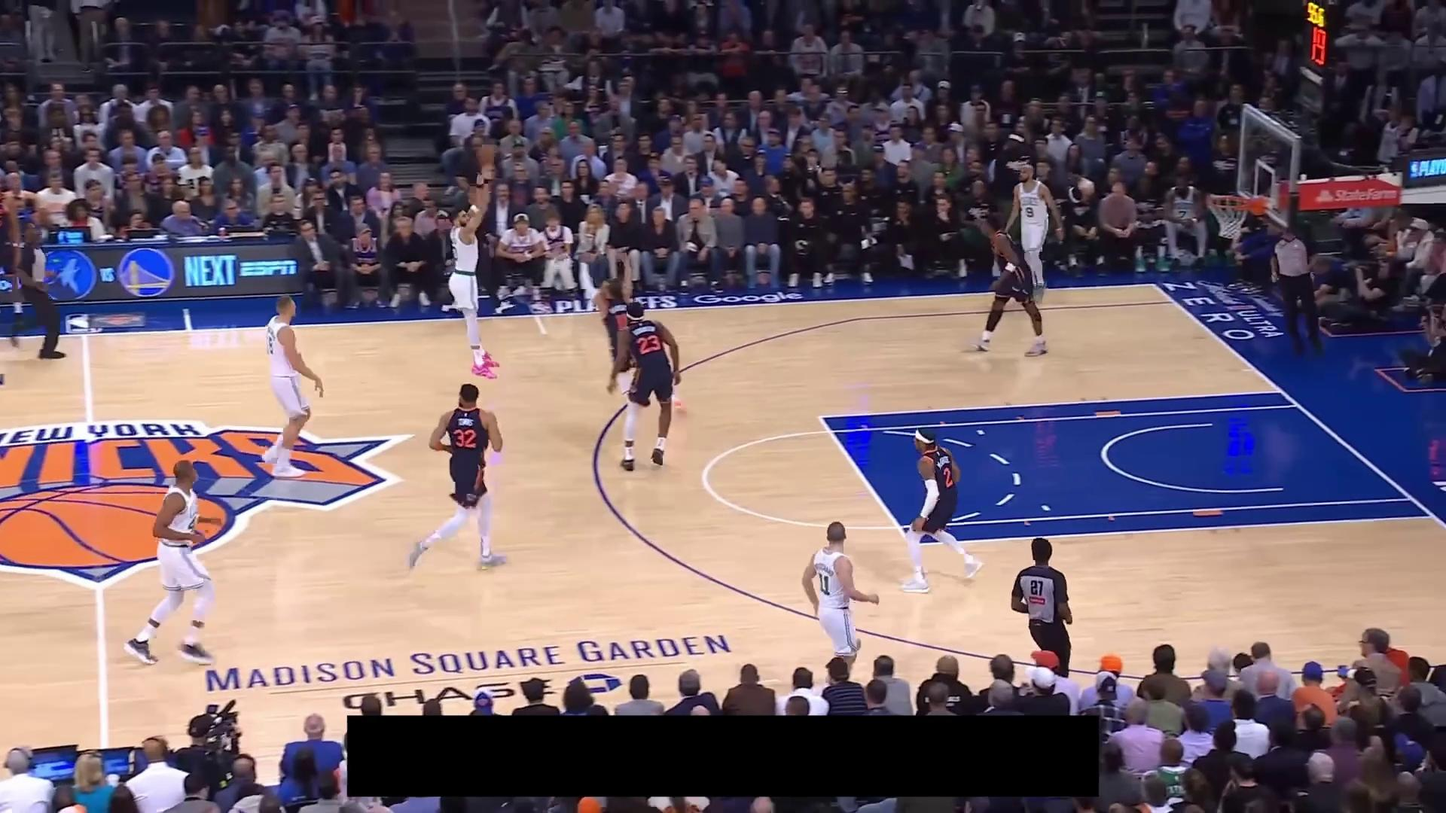ball: (477, 142, 498, 165)
number: (453, 428, 477, 449), (636, 335, 661, 355), (819, 573, 831, 596), (941, 467, 952, 488), (1024, 206, 1035, 218), (267, 336, 274, 354)
player: (123, 458, 218, 668), (406, 382, 508, 574), (893, 422, 986, 597), (798, 517, 883, 684), (606, 298, 681, 472), (258, 292, 325, 479), (968, 216, 1050, 358), (1001, 163, 1065, 303)
player-jump-shot: (446, 164, 502, 381)
player-shot-block: (579, 248, 689, 413)
referee: (1010, 536, 1074, 680), (7, 225, 69, 361), (1269, 225, 1326, 358)
rim: (1207, 193, 1250, 210)
